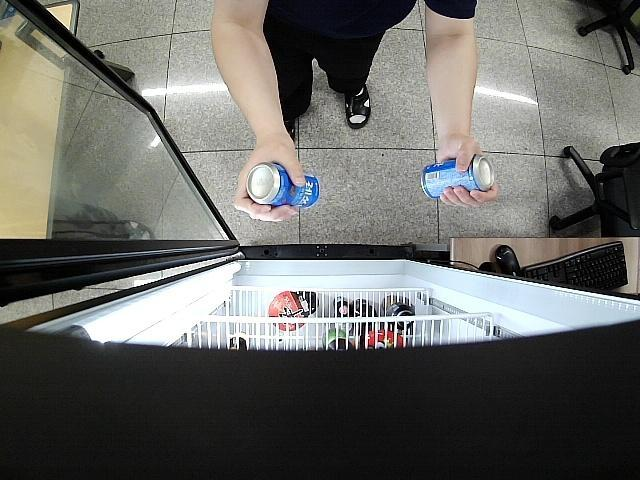15_letsbe: (249, 164, 320, 210), (422, 156, 496, 200)
